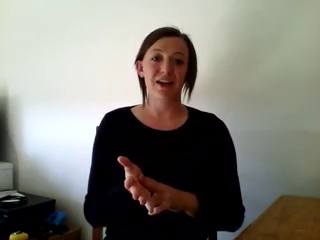N: (115, 151, 191, 223)
